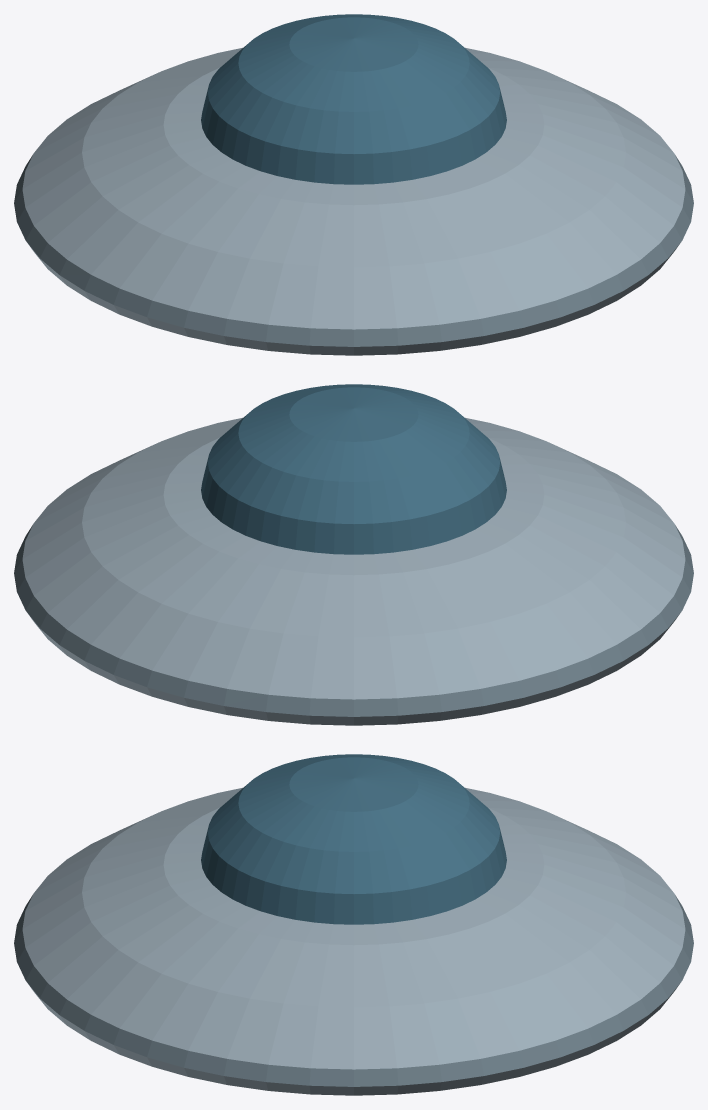
File: NEW_RECOVERY_076_LOD0.glb
3 views of the same model, one above another, from view 1: azimuth 30°, elevation 25°; view 2: azimuth 150°, elevation 25°; view 3: azimuth 270°, elevation 25° (orthographic).
Visible parts, largest first — view 1: UFO_fictional_solid_prop; view 2: UFO_fictional_solid_prop; view 3: UFO_fictional_solid_prop.
Part boxes in pixels (<box>): UFO_fictional_solid_prop: <box>14,14,693,355</box>; UFO_fictional_solid_prop: <box>14,384,693,725</box>; UFO_fictional_solid_prop: <box>14,754,693,1095</box>.
Bounding box in the file's own units: 4 × 1.44 × 4.
